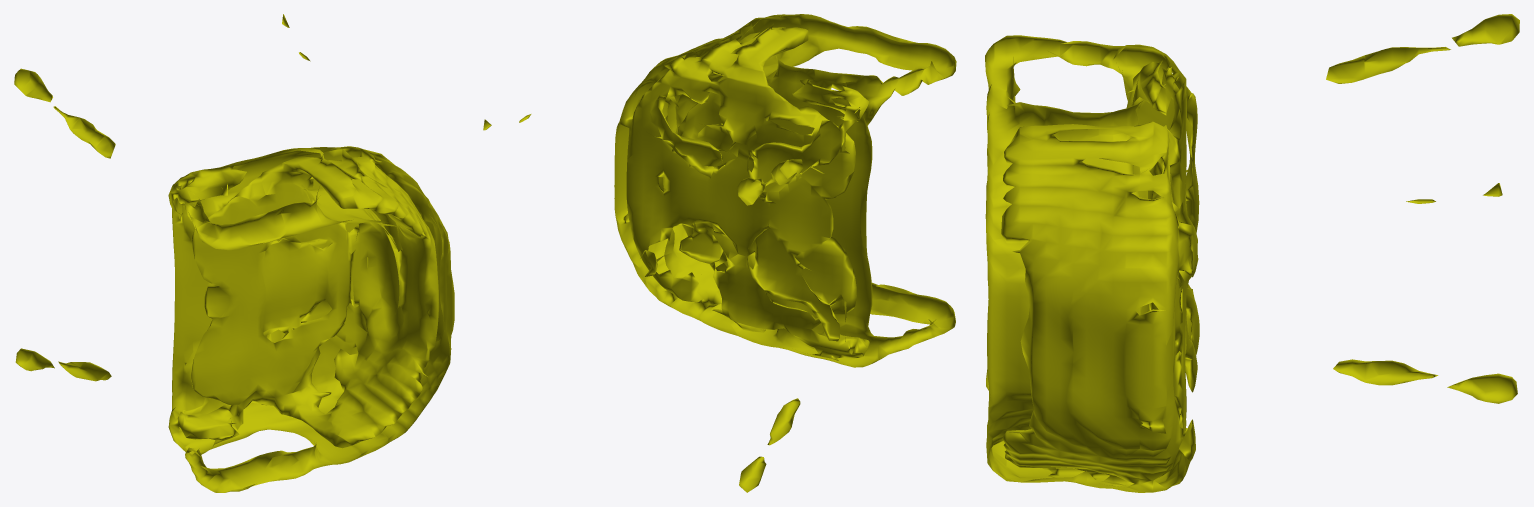
3 views of the same model, side by side, from view 1: azimuth 30°, elevation 25°; view 2: azimuth 150°, elevation 25°; view 3: azimuth 270°, elevation 25° (orthographic). The views are drawn at different scales.
Visible parts, largest first — view 1: world; view 2: world; view 3: world.
Part boxes in pixels (x1,y1,x2,y2): world: (14, 14, 454, 492); world: (483, 14, 956, 492); world: (985, 14, 1519, 492).
Bounding box in the file's own units: 30.63 × 32.06 × 40.22.
